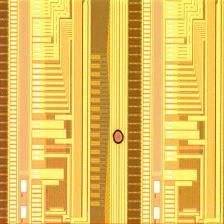PARTICLE: (111, 130, 127, 146)
